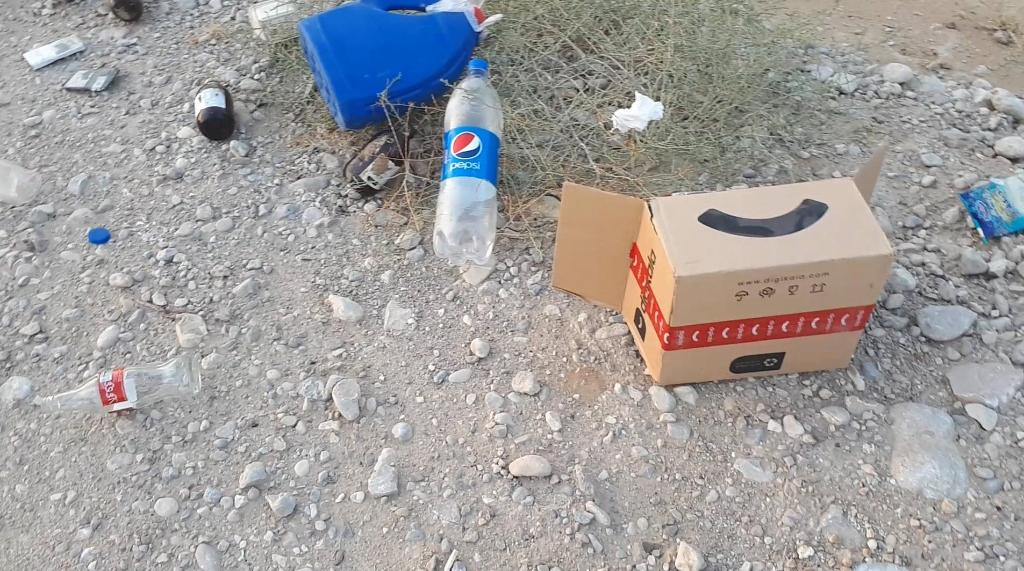garbage: (537, 138, 942, 394), (283, 5, 511, 118), (297, 0, 483, 129), (434, 55, 505, 291), (433, 59, 503, 266), (15, 355, 223, 419), (41, 355, 202, 415), (342, 113, 427, 213), (343, 121, 414, 197), (192, 75, 247, 144), (84, 0, 174, 31), (195, 77, 235, 140), (109, 0, 144, 22)
